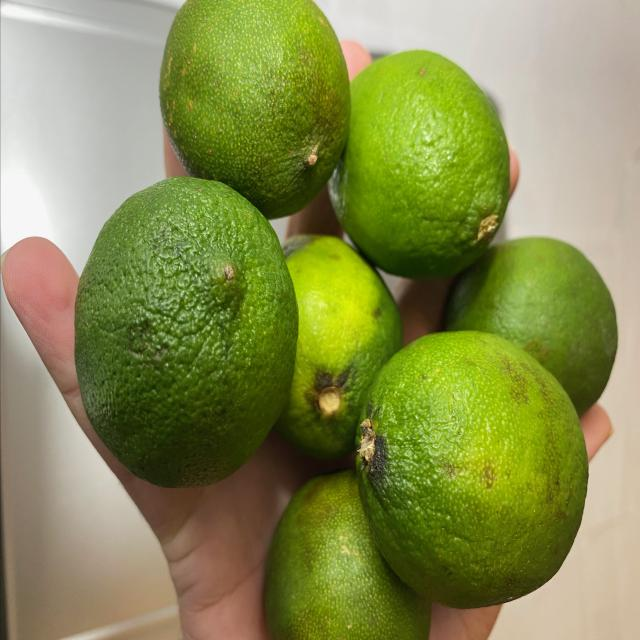lemon: (78, 3, 620, 636)
